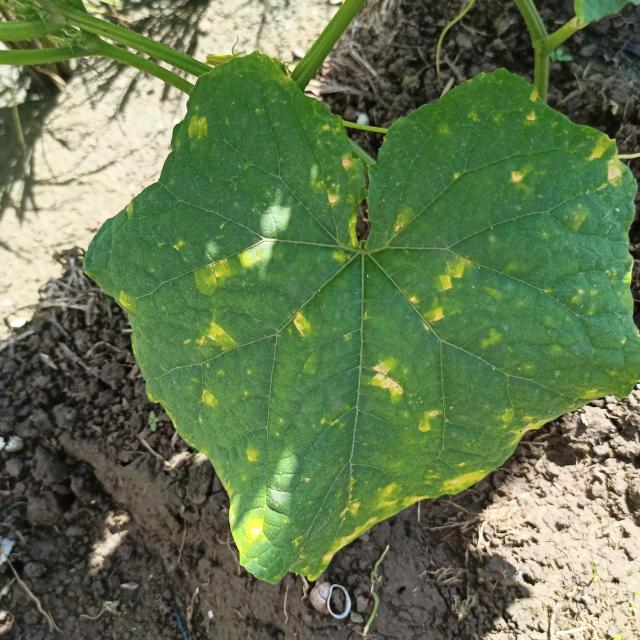disease_cucumber: (103, 70, 632, 580)
